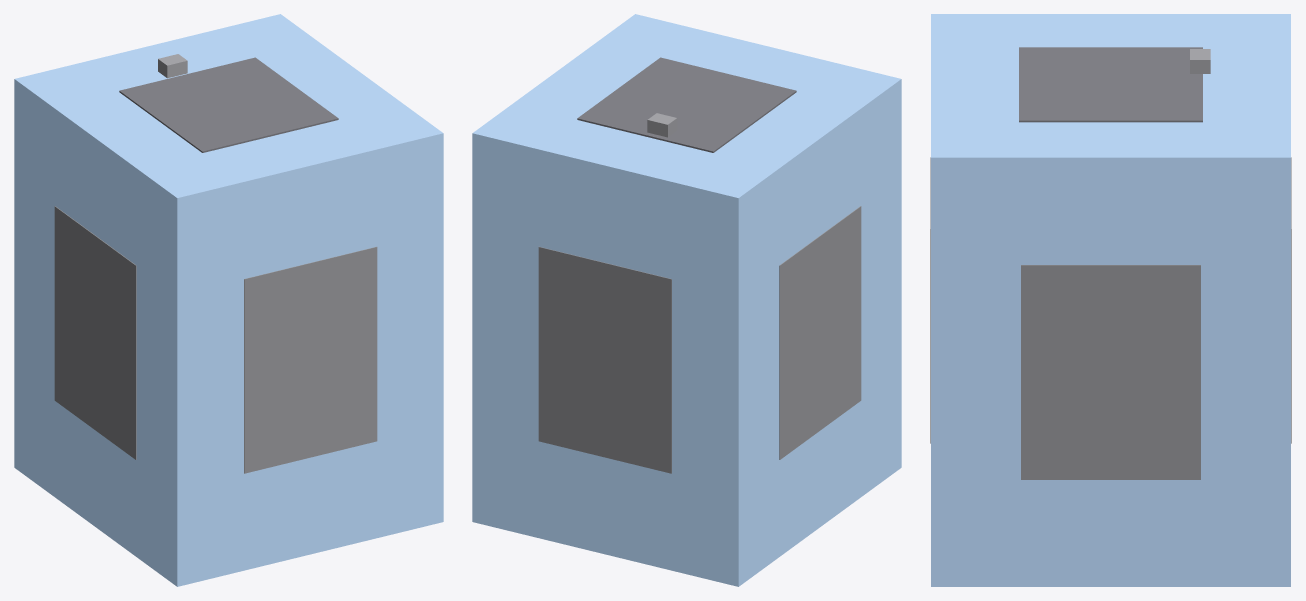
The model's file is office_0.glb.
3 renders of one model, left to right at view 1: azimuth 30°, elevation 25°; view 2: azimuth 150°, elevation 25°; view 3: azimuth 270°, elevation 25°, orthographic. The views are drawn at different scales.
Parts seen in each view (by area): view 1: office_0_body, office_0_col.002, office_0_col, office_0_roof, office_0_mech; view 2: office_0_body, office_0_col.003, office_0_col, office_0_roof, office_0_mech; view 3: office_0_body, office_0_col.001, office_0_roof, office_0_mech.
Part boxes in pixels (x1,y1,x2,y2): office_0_body: (14,14,443,586); office_0_col.002: (244,246,377,473); office_0_col: (54,206,136,459); office_0_roof: (119,57,338,152); office_0_mech: (158,54,187,78); office_0_body: (472,14,901,586); office_0_col.003: (538,246,671,473); office_0_col: (779,206,861,459); office_0_roof: (577,57,796,152); office_0_mech: (647,113,677,137); office_0_body: (931,14,1290,586); office_0_col.001: (1021,265,1200,479); office_0_roof: (1019,47,1202,122); office_0_mech: (1190,49,1210,73).
Bounding box in the file's own units: 17.64 × 25.83 × 18.69.
